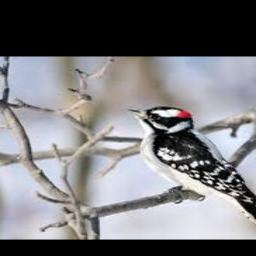Woodpecker: (124, 107, 256, 231)
